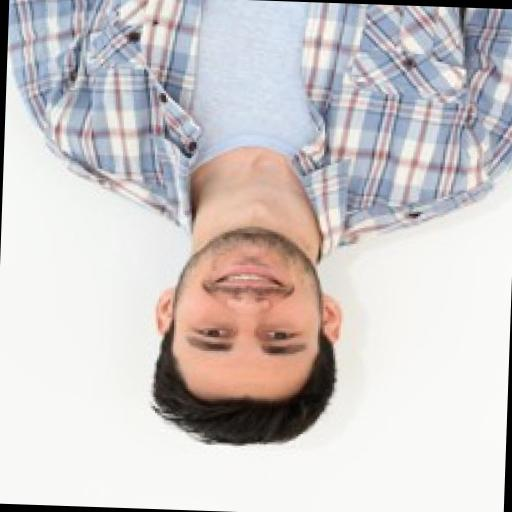human: (13, 0, 512, 469)
